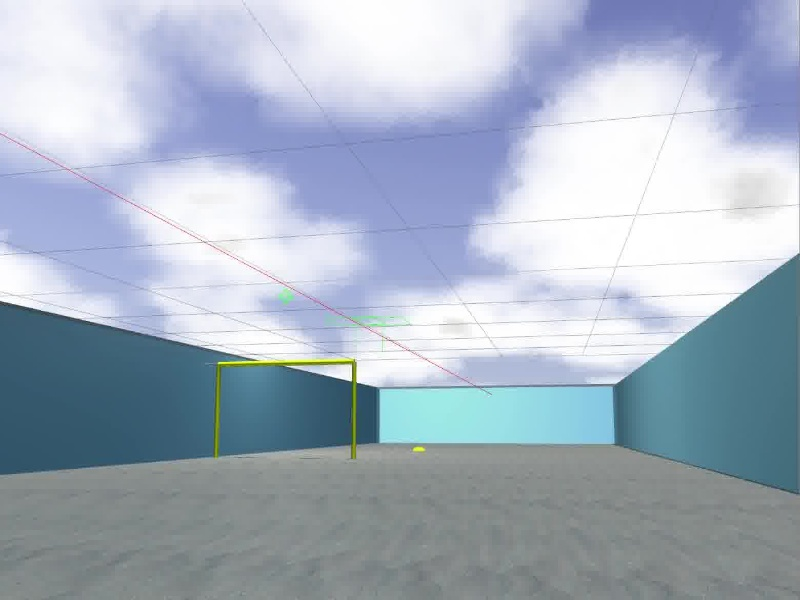gate: (211, 361, 358, 462)
